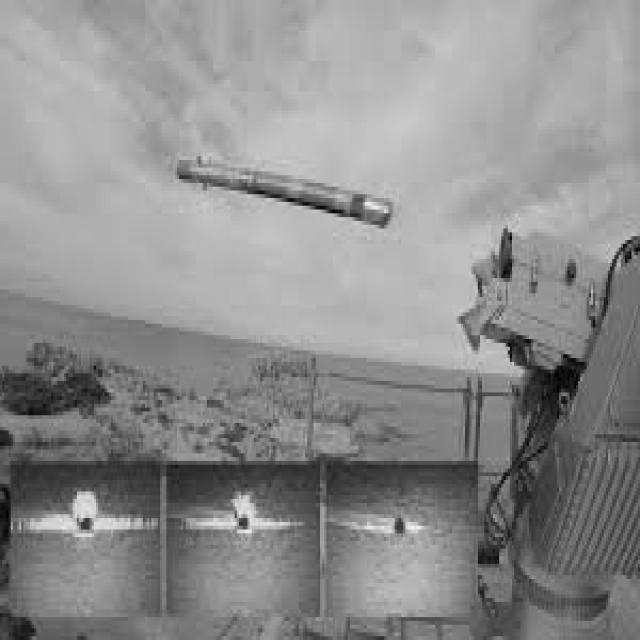missile: (163, 154, 410, 229)
